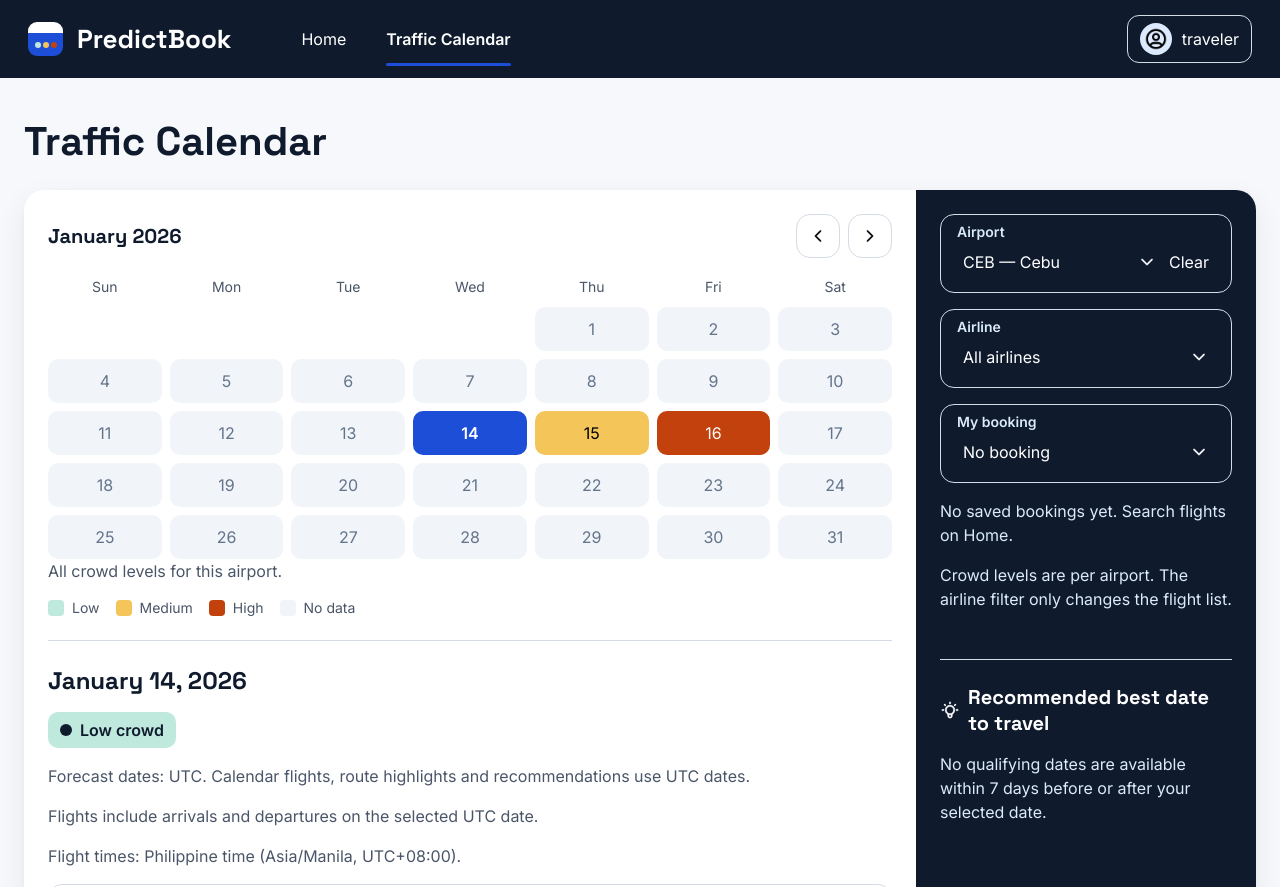
selects a no-data day and shows the empty flight message
The image size is (1280, 887).
Click the button "17" at (835, 433), box [778,411,892,455]
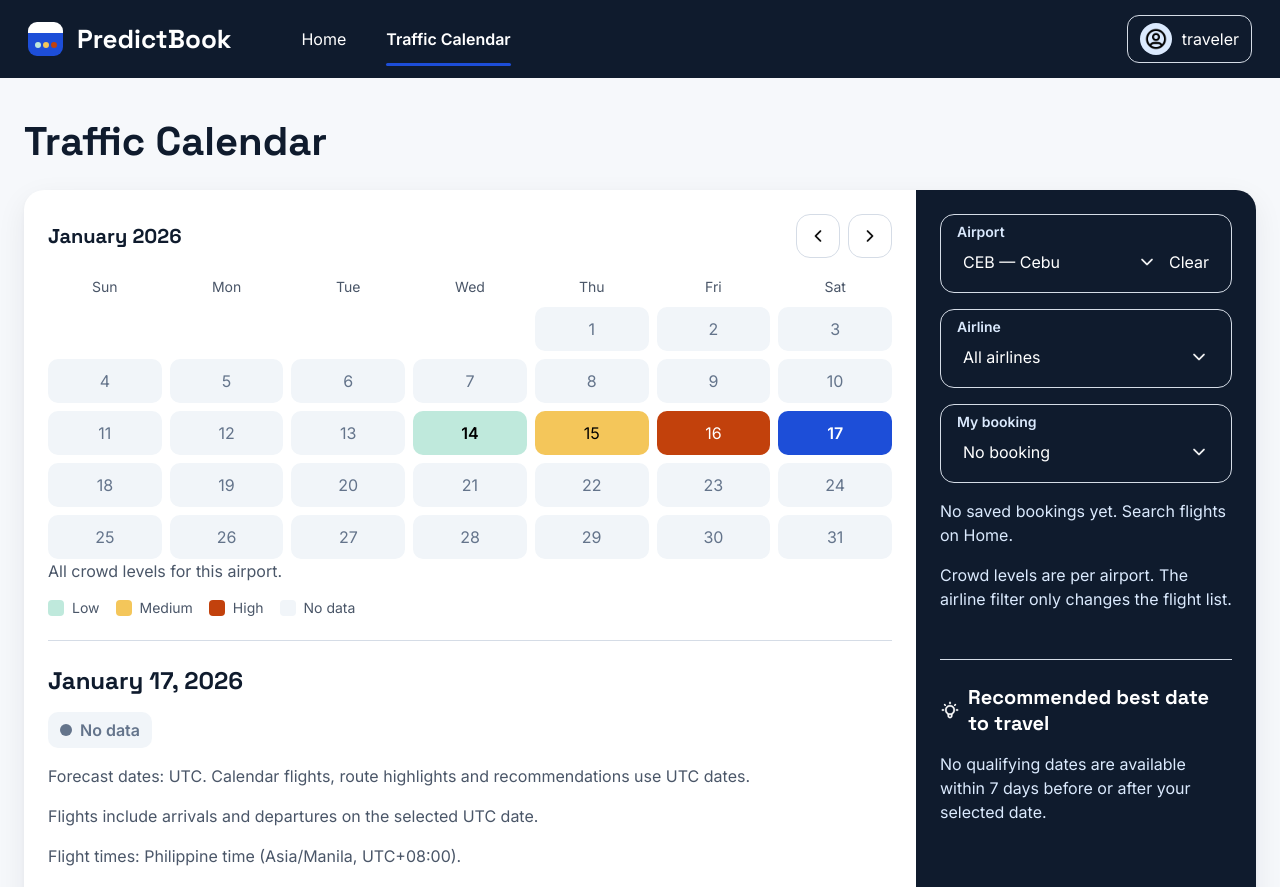
Now the element with class "record-crowd-chip" reads "No data", box [80,720,140,740]
